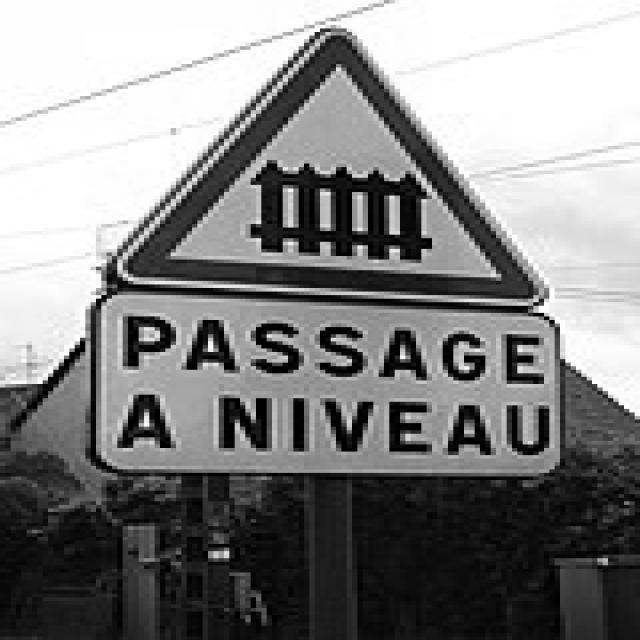guarded level crossing: (98, 18, 566, 315)
